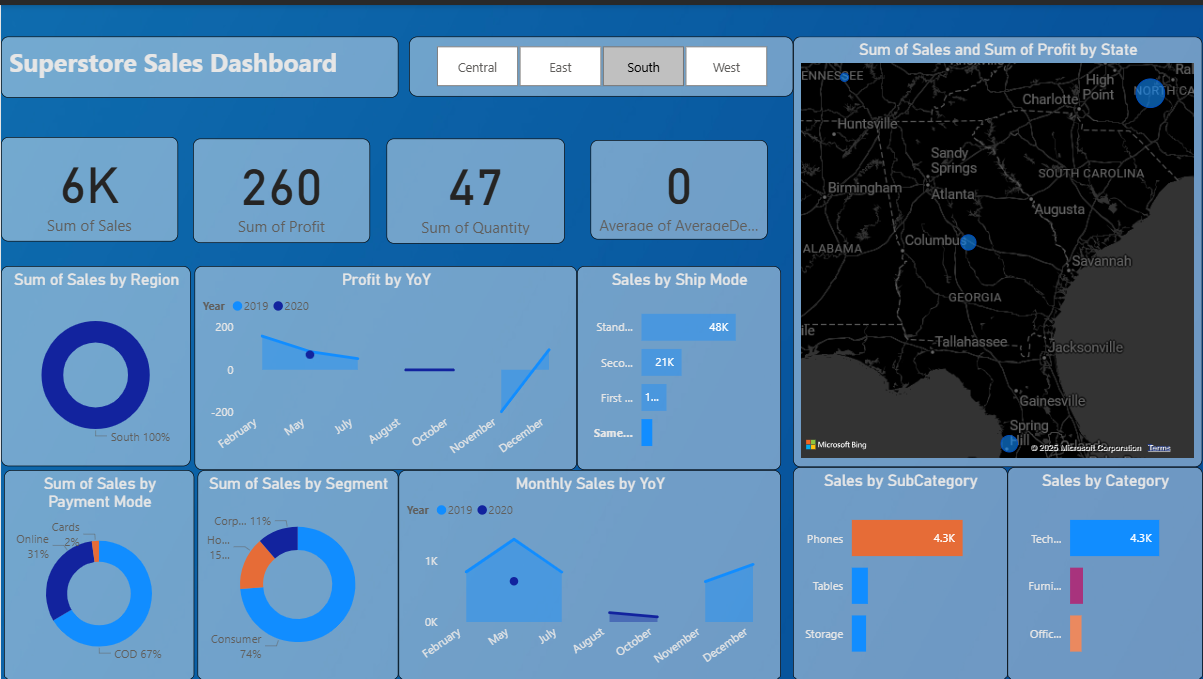

The dashboard page shown, as its layout file describes it:
{"tool":"powerbi","page":{"name":"Page 1","canvas":[1280,720],"ordinal":0},"visuals":[{"type":"clusteredBarChart","title":"Sales by SubCategory","fields":{"Y":["Sum(SuperStore_Sales_Dataset.Sales)"],"Category":["SuperStore_Sales_Dataset.Sub-Category"]},"box":[843.6,492.1,228.5,228.5],"z":0},{"type":"clusteredBarChart","title":"Sales by Category","fields":{"Category":["SuperStore_Sales_Dataset.Category"],"Y":["Sum(SuperStore_Sales_Dataset.Sales)"]},"box":[1072,492.1,207.7,228.5],"z":1000},{"type":"clusteredBarChart","title":"Sales by SubCategory","fields":{"Category":["SuperStore_Sales_Dataset.Ship Mode"],"Y":["Sum(SuperStore_Sales_Dataset.Sales)"]},"box":[613.5,278,217.3,217.3],"z":2000},{"type":"areaChart","title":"Monthly Sales by YoY","fields":{"Category":["SuperStore_Sales_Dataset.Order Date.Variation.Date Hierarchy.Month","SuperStore_Sales_Dataset.Order Date.Variation.Date Hierarchy.Day"],"Y":["Sum(SuperStore_Sales_Dataset.Sales)"],"Series":["SuperStore_Sales_Dataset.Order Date.Variation.Date Hierarchy.Year"]},"box":[423.4,492.1,407.4,228.5],"z":3000},{"type":"areaChart","title":"Profit by YoY","fields":{"Category":["SuperStore_Sales_Dataset.Order Date.Variation.Date Hierarchy.Month","SuperStore_Sales_Dataset.Order Date.Variation.Date Hierarchy.Day"],"Series":["SuperStore_Sales_Dataset.Order Date.Variation.Date Hierarchy.Year"],"Y":["Sum(SuperStore_Sales_Dataset.Profit)"]},"box":[206.1,278,407.4,217.3],"z":4000},{"type":"map","fields":{"Category":["SuperStore_Sales_Dataset.State"],"Size":["Sum(SuperStore_Sales_Dataset.Sales)"]},"box":[843.6,33.6,436.2,458.5],"z":5000},{"type":"donutChart","fields":{"Category":["SuperStore_Sales_Dataset.Segment"],"Y":["Sum(SuperStore_Sales_Dataset.Sales)"]},"box":[209.3,495.3,214.1,225.3],"z":6000},{"type":"donutChart","fields":{"Category":["SuperStore_Sales_Dataset.Region"],"Y":["Sum(SuperStore_Sales_Dataset.Sales)"]},"box":[0,277.8,202.2,213.5],"z":7000},{"type":"donutChart","fields":{"Category":["SuperStore_Sales_Dataset.Payment Mode"],"Y":["Sum(SuperStore_Sales_Dataset.Sales)"]},"box":[3.2,495.3,202.9,225.3],"z":8000},{"type":"slicer","fields":{"Values":["SuperStore_Sales_Dataset.Region"]},"box":[434.6,33.6,409,63.9],"z":9000},{"type":"textbox","box":[0,33.6,423.4,65.5],"z":10000},{"type":"card","fields":{"Values":["Sum(SuperStore_Sales_Dataset.Profit)"]},"box":[204.1,141.7,189,111.5],"z":11000},{"type":"card","fields":{"Values":["Sum(SuperStore_Sales_Dataset.Quantity)"]},"box":[423.3,143.6,189,111.5],"z":12000},{"type":"card","fields":{"Values":["Avg(SuperStore_Sales_Dataset.AverageDeliveryTime)"]},"box":[627.4,143.6,189,105.8],"z":13000},{"type":"card","fields":{"Values":["Sum(SuperStore_Sales_Dataset.Sales)"]},"box":[0,139.8,189,111.5],"z":14000}]}

Visuals, with their boxes in screenshot pixels (x1, y1, x2, y2), scaled from the page's 1280x720 canvas onto the 1203x679 screenshot:
"Sales by SubCategory" clusteredBarChart: (793,464,1008,678)
"Sales by Category" clusteredBarChart: (1008,464,1202,678)
"Sales by SubCategory" clusteredBarChart: (577,262,781,467)
"Monthly Sales by YoY" areaChart: (398,464,781,678)
"Profit by YoY" areaChart: (194,262,577,467)
map - SuperStore_Sales_Dataset.State x Sum(SuperStore_Sales_Dataset.Sales): (793,32,1202,464)
donutChart - SuperStore_Sales_Dataset.Segment x Sum(SuperStore_Sales_Dataset.Sales): (197,467,398,678)
donutChart - SuperStore_Sales_Dataset.Region x Sum(SuperStore_Sales_Dataset.Sales): (0,262,190,463)
donutChart - SuperStore_Sales_Dataset.Payment Mode x Sum(SuperStore_Sales_Dataset.Sales): (3,467,194,678)
slicer - SuperStore_Sales_Dataset.Region: (408,32,793,92)
textbox: (0,32,398,93)
card - Sum(SuperStore_Sales_Dataset.Profit): (192,134,369,239)
card - Sum(SuperStore_Sales_Dataset.Quantity): (398,135,575,241)
card - Avg(SuperStore_Sales_Dataset.AverageDeliveryTime): (590,135,767,235)
card - Sum(SuperStore_Sales_Dataset.Sales): (0,132,178,237)
